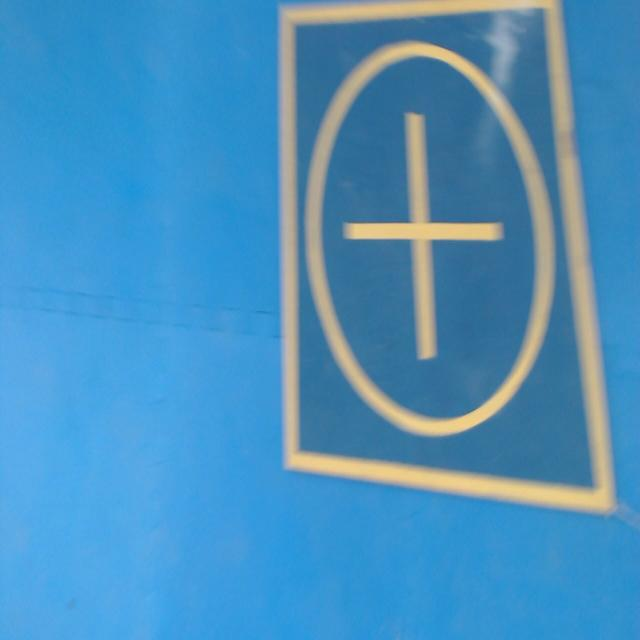base_pouso: (279, 4, 616, 519)
